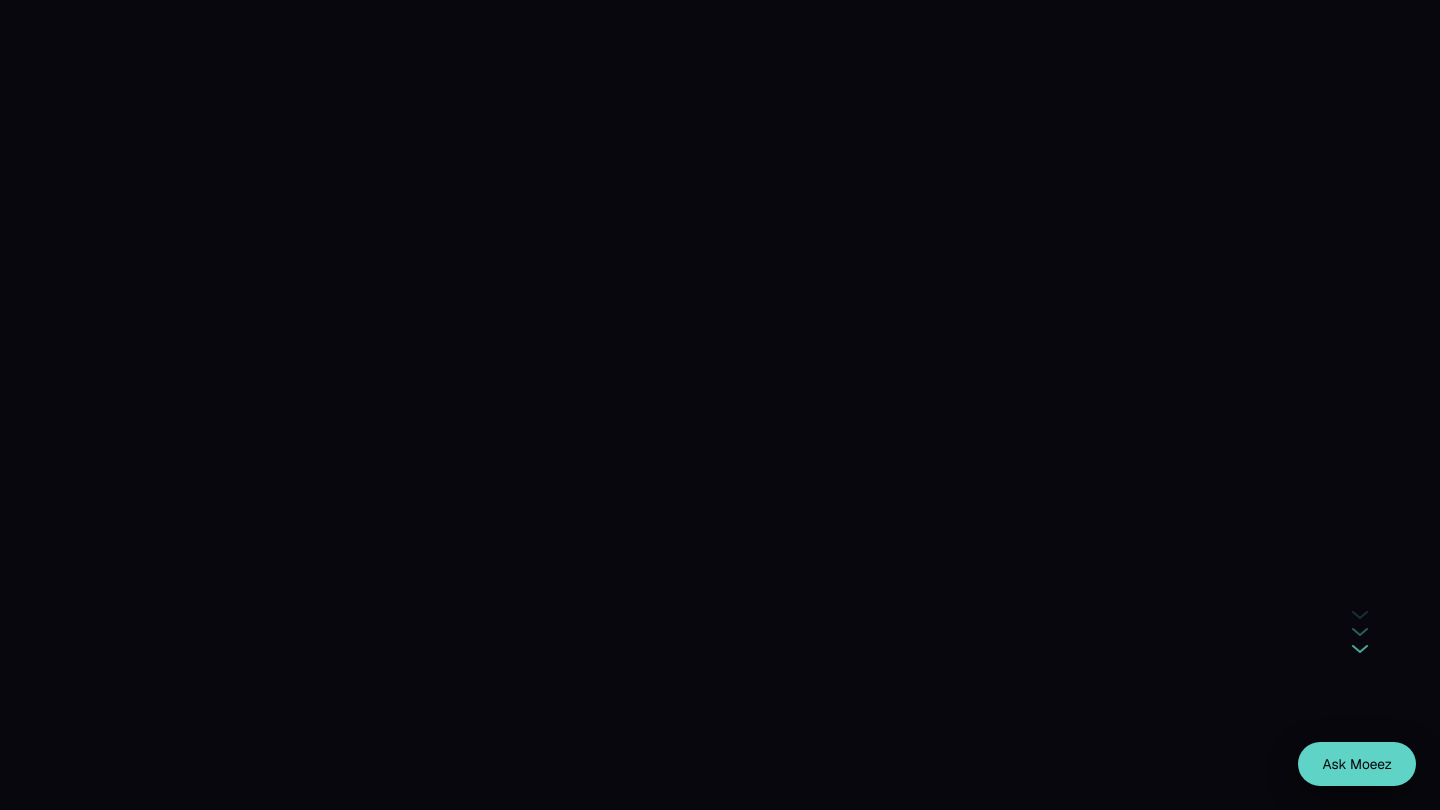
Test case: ChatDock › opens on click and focuses the input
Click the button "Ask Moeez".
click(1357, 764)  # box [1298,742,1416,786]
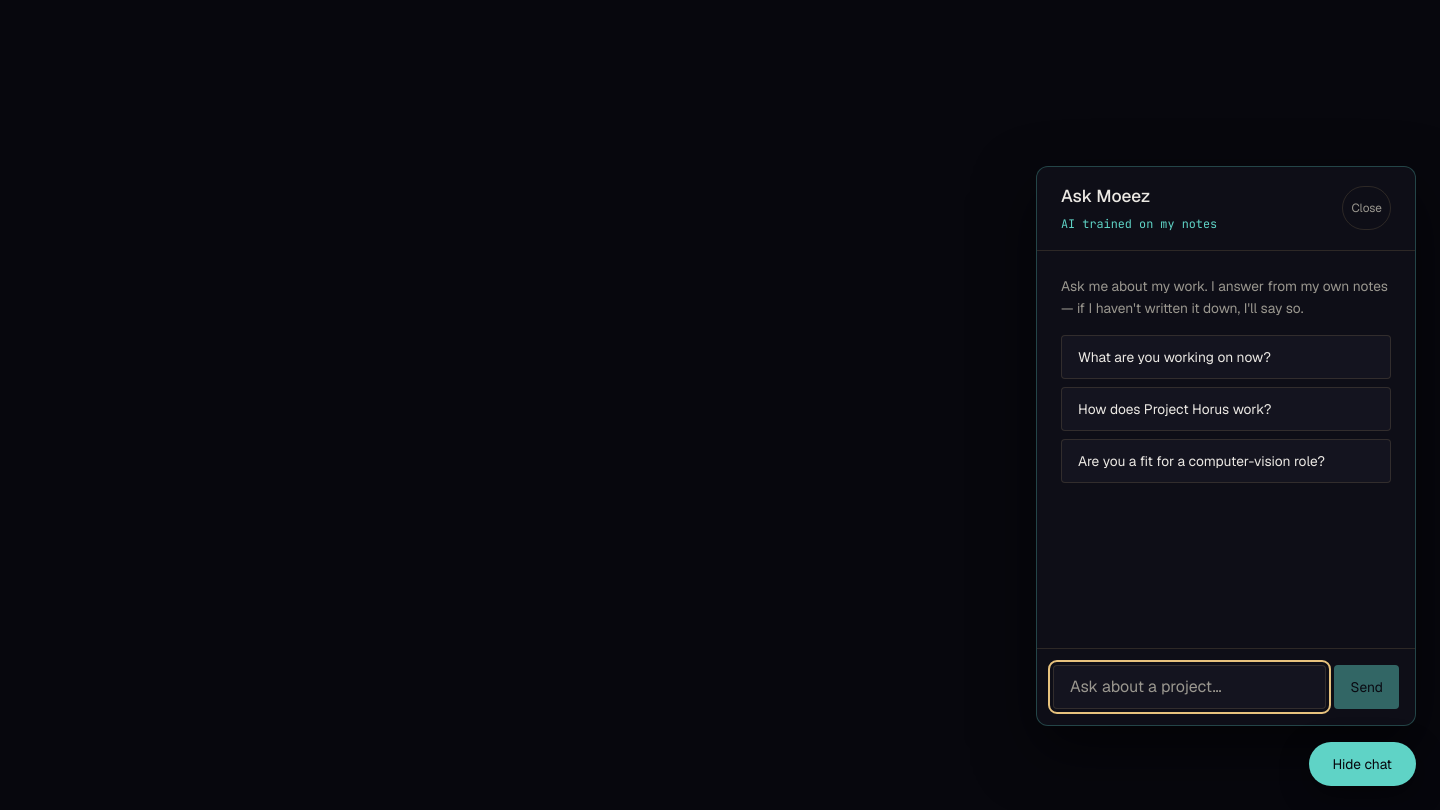
Expected: the dialog "Ask Moeez" is shown, [1036,166,1416,726]
